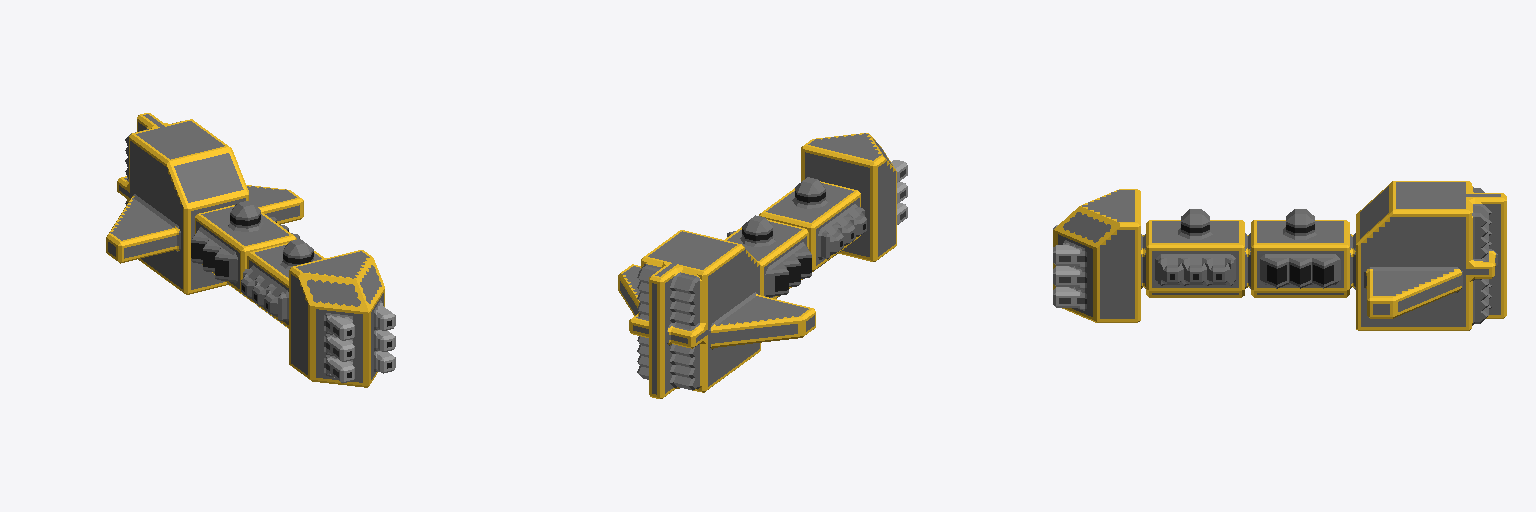
3 views of the same model, side by side, from view 1: azimuth 30°, elevation 25°; view 2: azimuth 150°, elevation 25°; view 3: azimuth 270°, elevation 25° (orthographic).
Size of the model in its own units: 37 by 23 by 78.
1 materials, 1 textured.